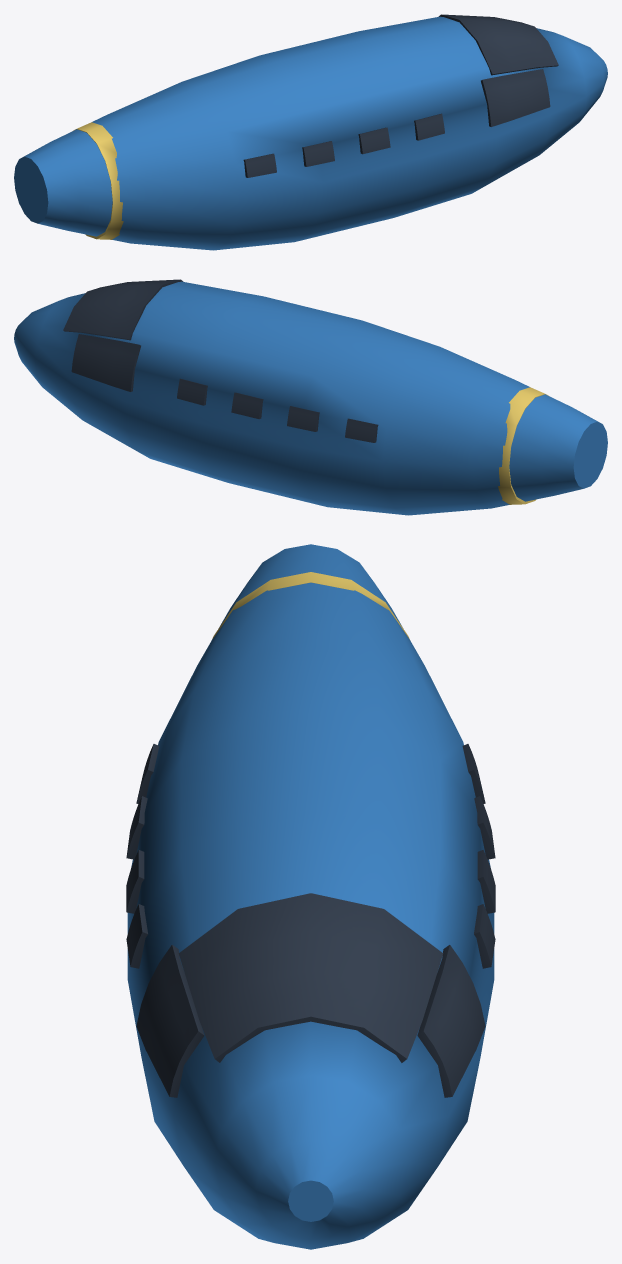
File: fuselage-sleek.glb
The picture shows the model from 3 angles, top to bottom: view 1: azimuth 30°, elevation 25°; view 2: azimuth 150°, elevation 25°; view 3: azimuth 270°, elevation 25°; orthographic projection. The views are drawn at different scales.
Parts seen in each view (by area): view 1: body, dark, trim; view 2: body, dark, trim; view 3: body, dark, trim.
Part boxes in pixels (box(x1,y1,x2,y2)): body: box(14, 16, 607, 250); dark: box(243, 14, 558, 177); trim: box(72, 122, 123, 239); body: box(14, 281, 607, 515); dark: box(63, 279, 378, 442); trim: box(498, 387, 549, 504); body: box(127, 544, 494, 1249); dark: box(126, 744, 495, 1097); trim: box(212, 572, 409, 639).
Size of the model in its own units: 1.44 by 0.42 by 0.403.
